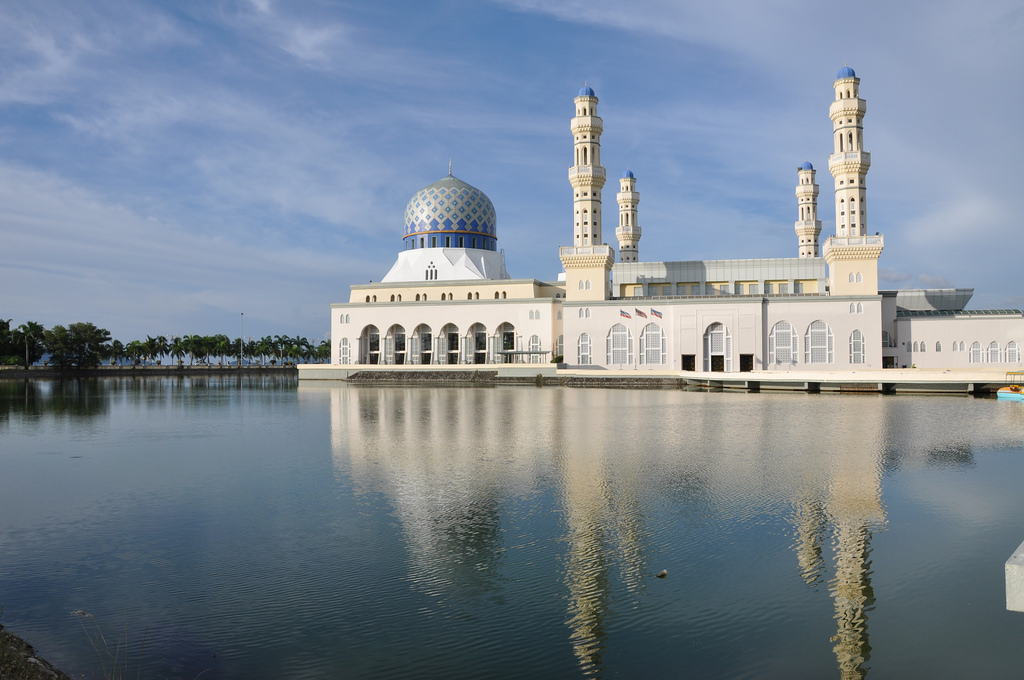Mosque: (304, 63, 992, 376)
